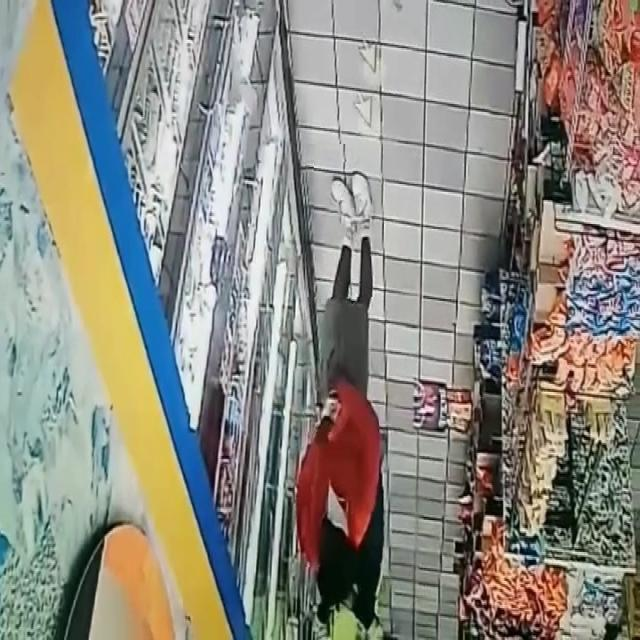Shoplifting: (302, 144, 379, 635)
